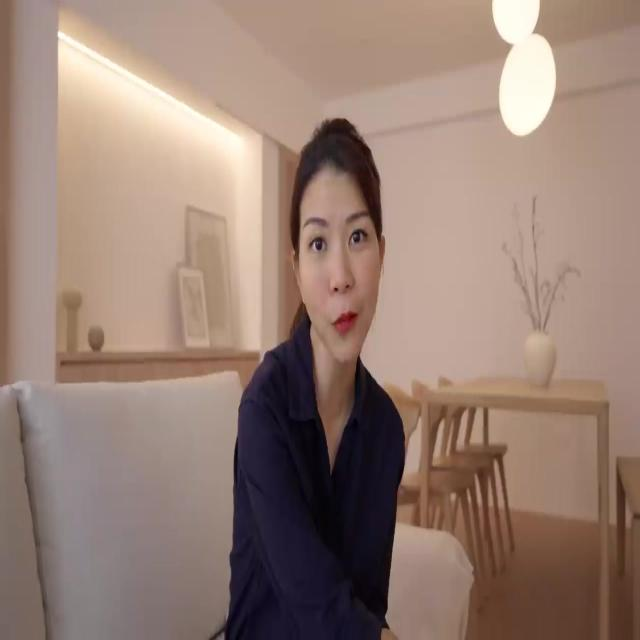obstacle: (0, 371, 475, 638), (418, 374, 610, 638)
person: (224, 116, 406, 638)
